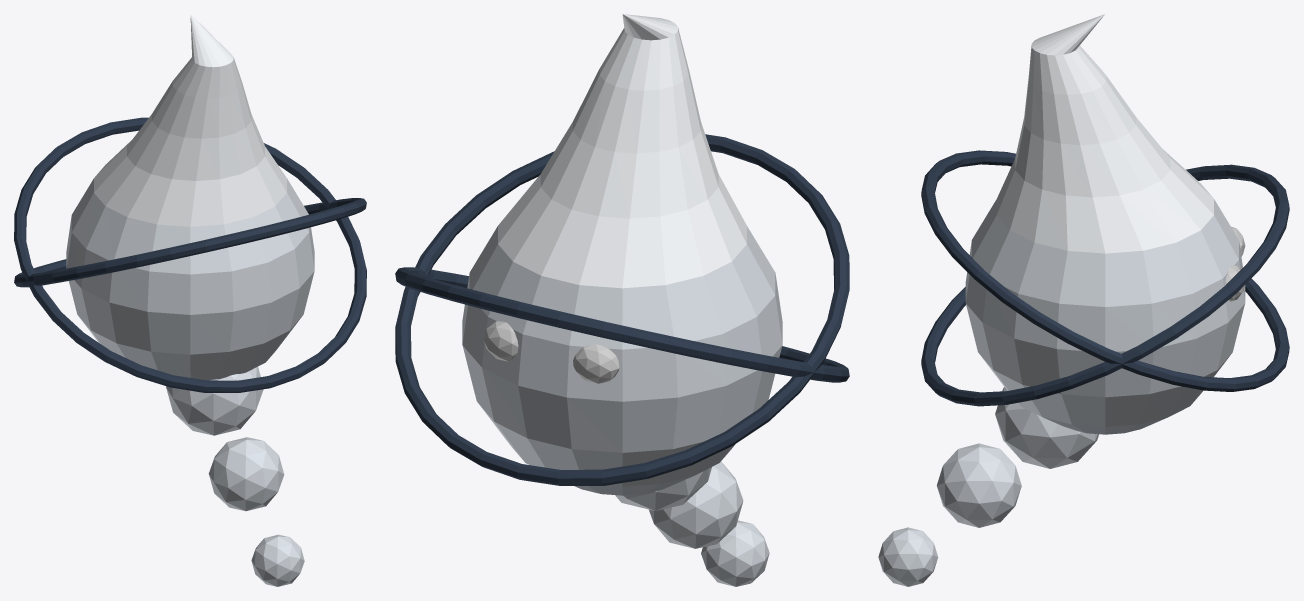
The model's file is CreatureWisp.obj.
The picture shows the model from 3 angles, left to right: view 1: azimuth 30°, elevation 25°; view 2: azimuth 150°, elevation 25°; view 3: azimuth 270°, elevation 25°; orthographic projection. The views are drawn at different scales.
Bounding box in the file's own units: 2.59 × 3.99 × 2.61.
